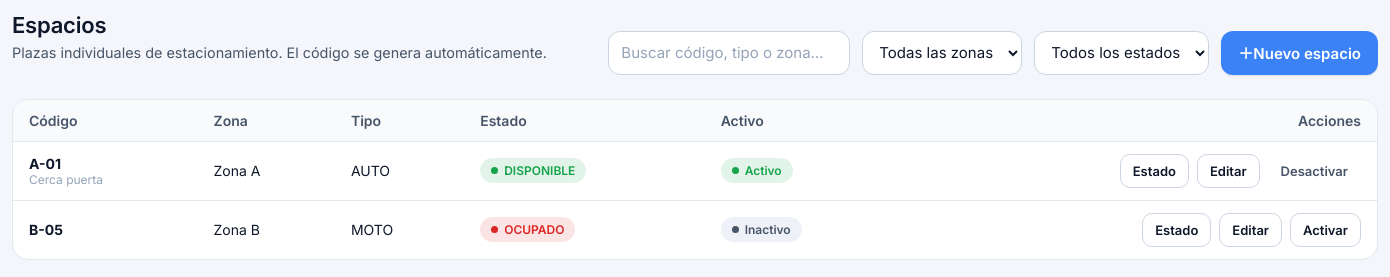
EspaciosPage › filtra por estado
The image size is (1390, 277).
expect the text "A-01" is shown: met, box [29, 155, 61, 172]
Select "OCUPADO" in the dropdown named "Filtrar por estado" at point(1122, 53), box [1034, 31, 1209, 75]
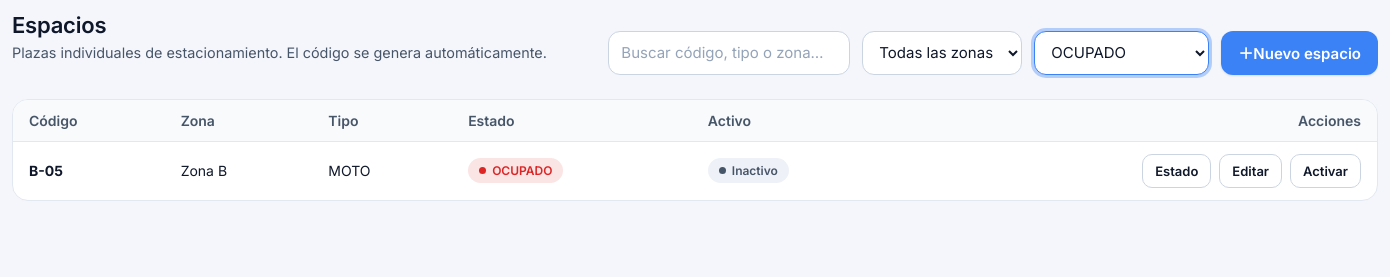
expect the text "B-05" is shown: met, box [29, 162, 63, 179]
expect the text "A-01" is gone: met
